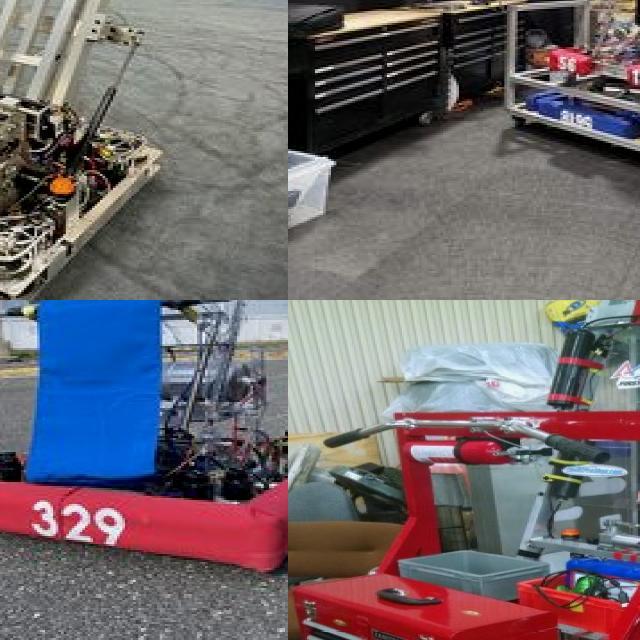FRC-Robots: (0, 300, 288, 611), (0, 0, 282, 300), (500, 300, 640, 640), (550, 0, 640, 84)
